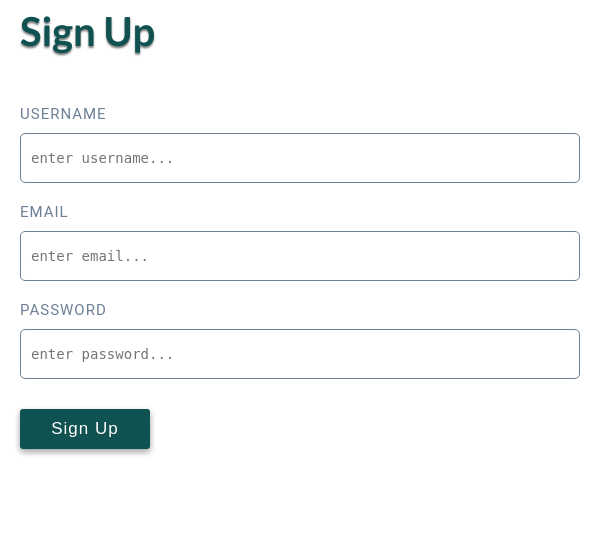
Test: Signup component tests › register form displays error message if fields are empty
The image size is (597, 545).
(page scrolled)
Click the button "Sign Up" at (85, 429), box [20, 409, 150, 449]
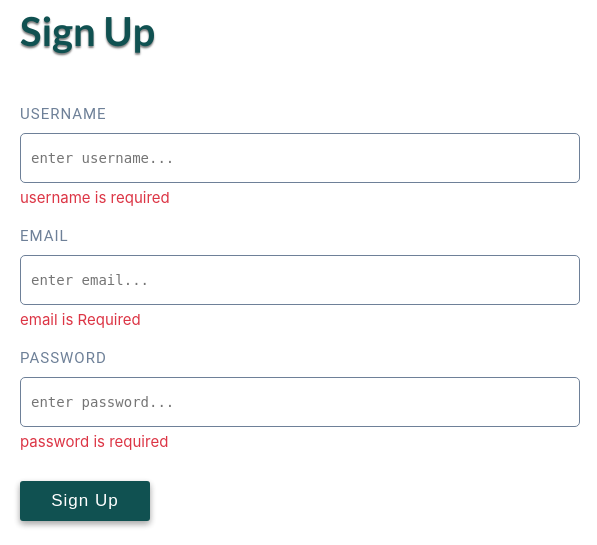
Expected: the text "email is Required" is shown, [20, 310, 141, 329]
Expected: the text "password is required" is shown, [20, 432, 168, 451]
Expected: the text "username is required" is shown, [20, 188, 170, 207]
